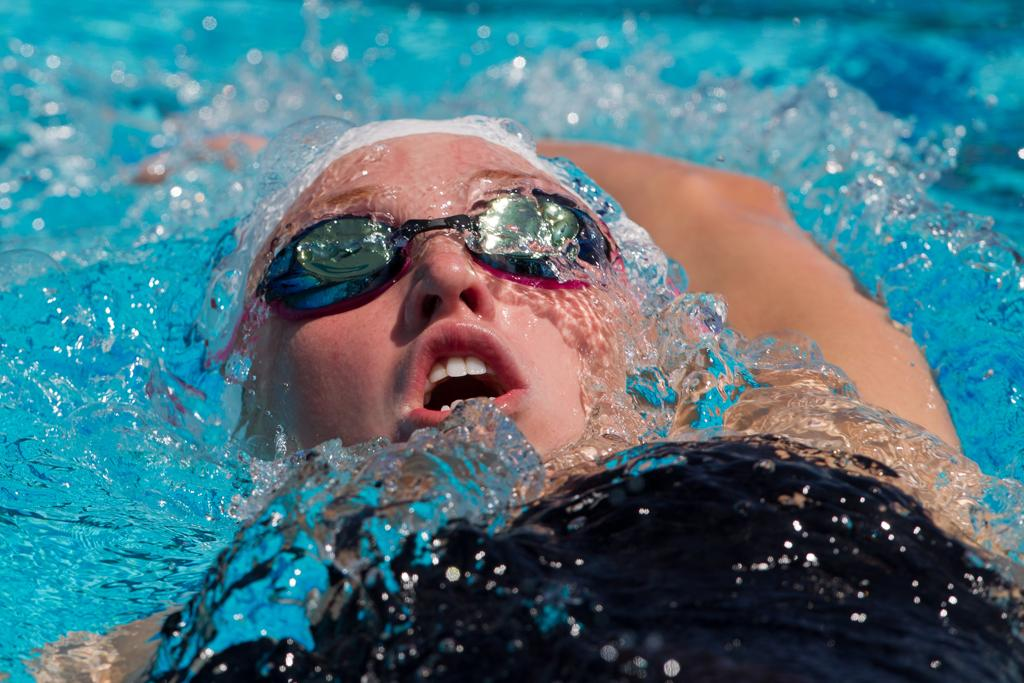face: (258, 150, 600, 462)
